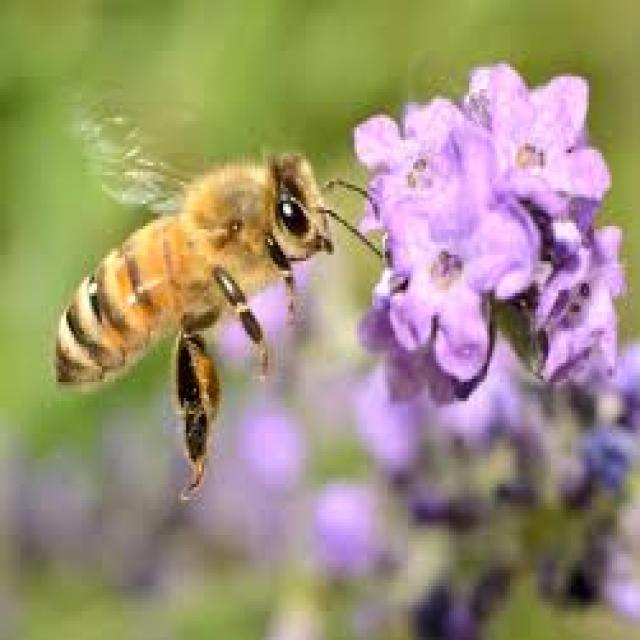Bees: (51, 100, 383, 499)
